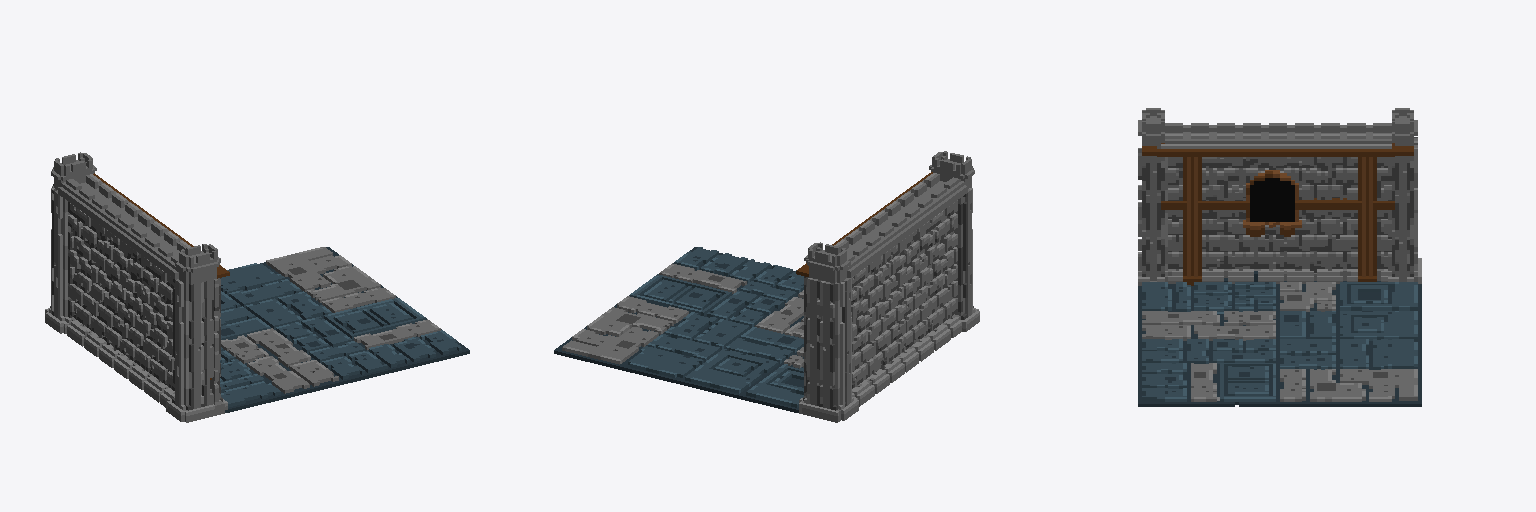
The picture shows the model from 3 angles: view 1: azimuth 30°, elevation 25°; view 2: azimuth 150°, elevation 25°; view 3: azimuth 270°, elevation 25°; orthographic projection.
Bounding box in the file's own units: 89 × 48 × 76.
1 materials, 1 textured.